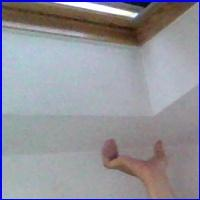space: (97, 125, 174, 181)
